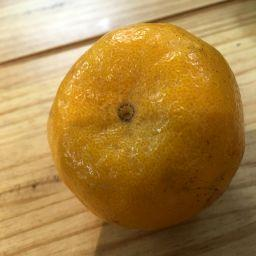Ripe: (51, 25, 245, 228)
